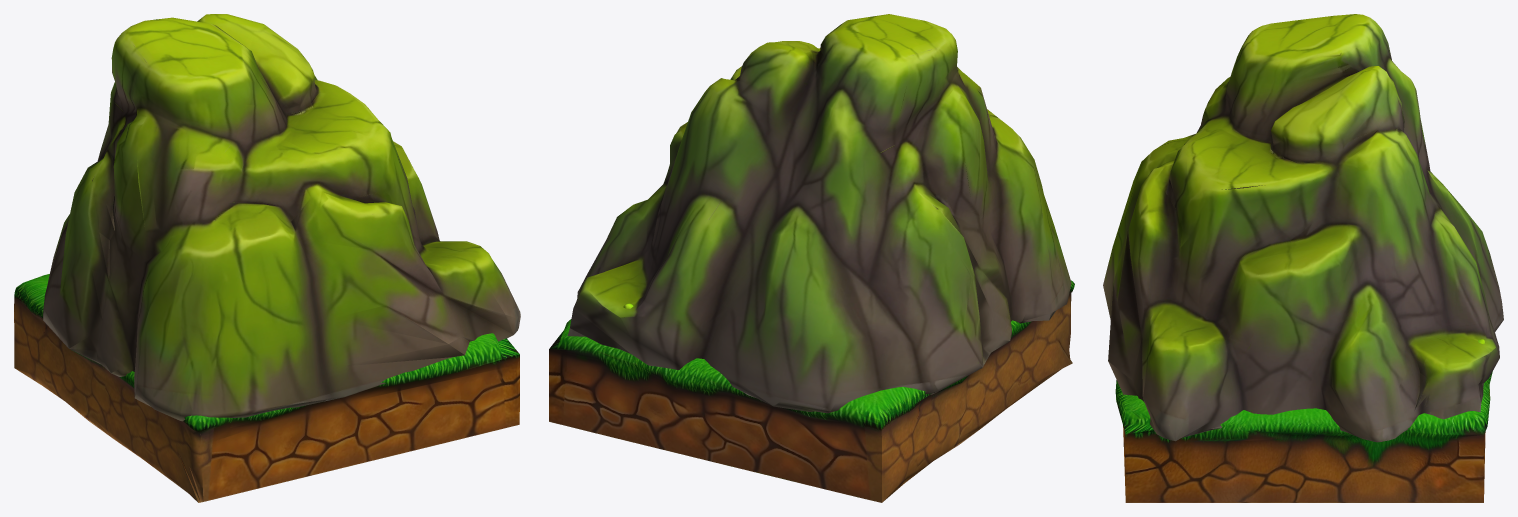
The model's file is mtn_mountain.glb.
The picture shows the model from 3 angles, left to right: view 1: azimuth 30°, elevation 25°; view 2: azimuth 150°, elevation 25°; view 3: azimuth 270°, elevation 25°; orthographic projection. The views are drawn at different scales.
Parts seen in each view (by area): view 1: Mesh_0; view 2: Mesh_0; view 3: Mesh_0.
Boxes of the visible parts, bbox=[...] form: Mesh_0: bbox=[14, 14, 520, 502]; Mesh_0: bbox=[549, 14, 1074, 502]; Mesh_0: bbox=[1103, 14, 1503, 502].
Bounding box in the file's own units: 2.04 × 1.99 × 1.98.
Materials: 2 (2 with a texture image).
